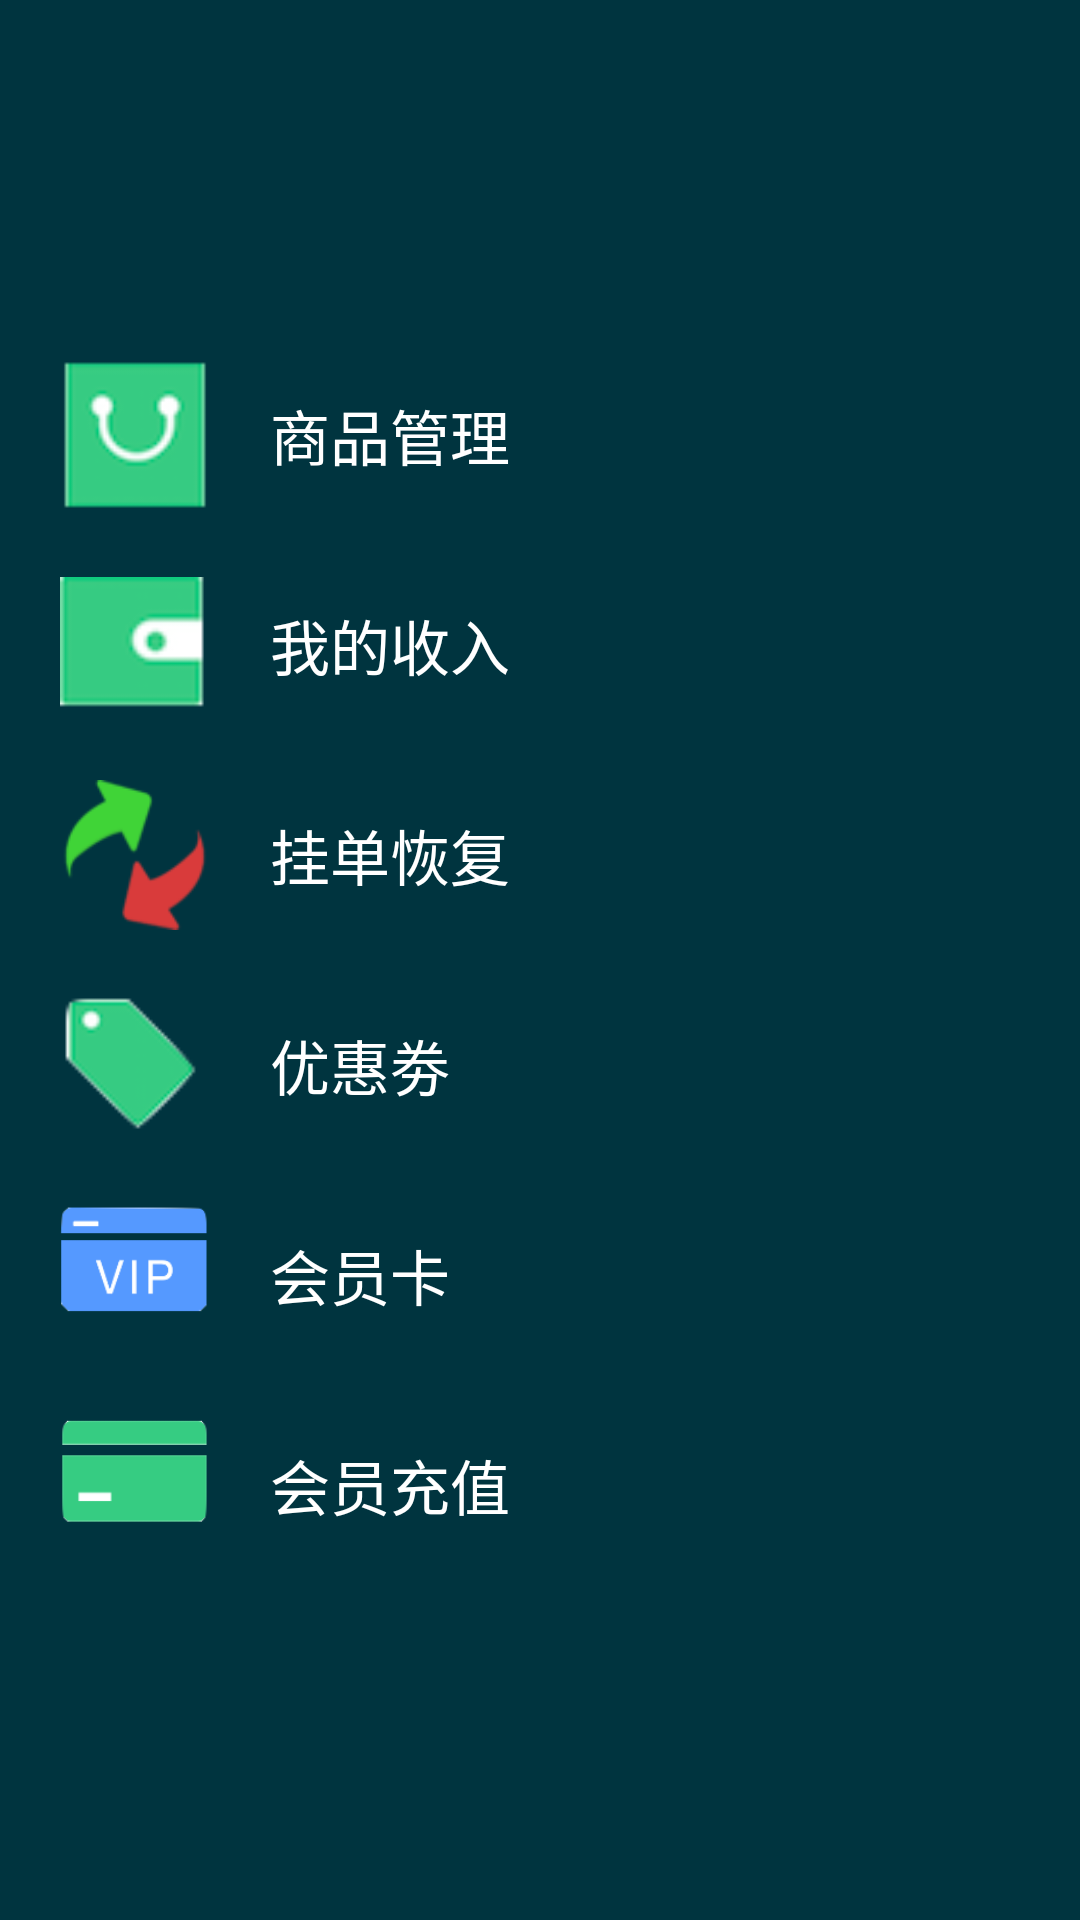

Icons on this 1080×1920 Android screen, each with its box as (x1, y1, x2, y2):
recover: (65, 780, 205, 930)
